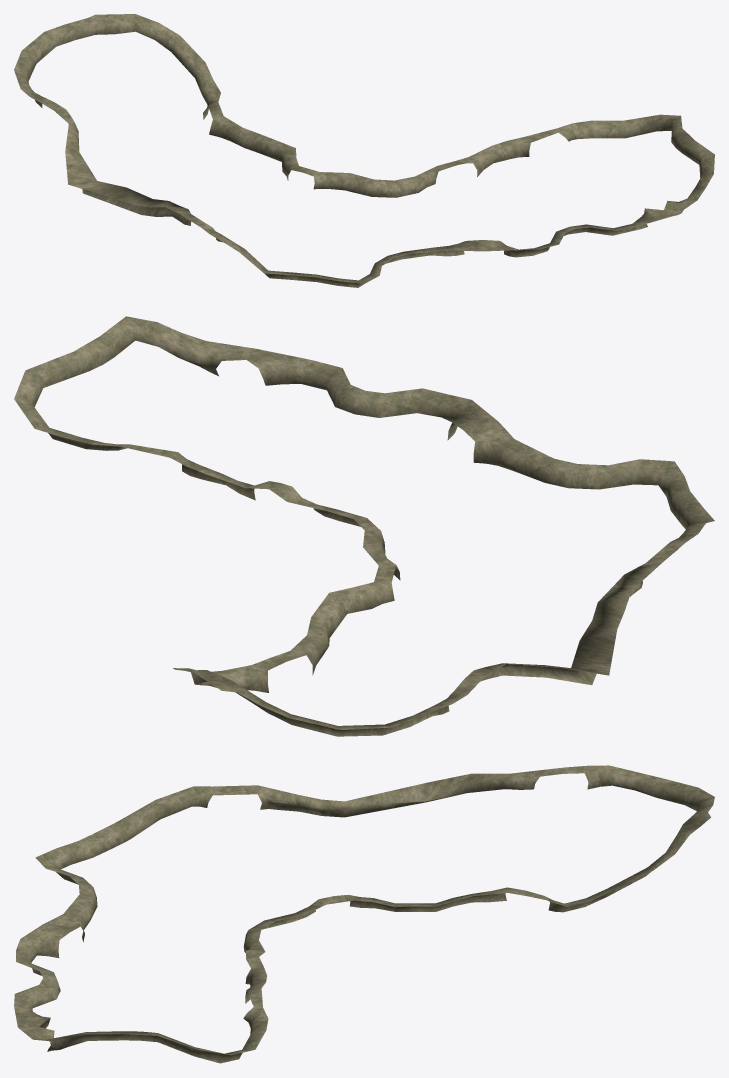
File: EKH_JAIL_PS_JA_PATH_TRIM9383837.fbx
3 views of the same model, one above another, from view 1: azimuth 30°, elevation 25°; view 2: azimuth 150°, elevation 25°; view 3: azimuth 270°, elevation 25° (orthographic). The views are drawn at different scales.
Parts seen in each view (by area): view 1: EKH_JAIL_PS_JA_PATH_TRIM9383837; view 2: EKH_JAIL_PS_JA_PATH_TRIM9383837; view 3: EKH_JAIL_PS_JA_PATH_TRIM9383837.
Part boxes in pixels (<box>): EKH_JAIL_PS_JA_PATH_TRIM9383837: <box>14,14,714,287</box>; EKH_JAIL_PS_JA_PATH_TRIM9383837: <box>14,316,714,736</box>; EKH_JAIL_PS_JA_PATH_TRIM9383837: <box>14,765,714,1063</box>.
Bounding box in the file's own units: 268792 × 31414 × 277383.
Materials: 1 (1 with a texture image).
